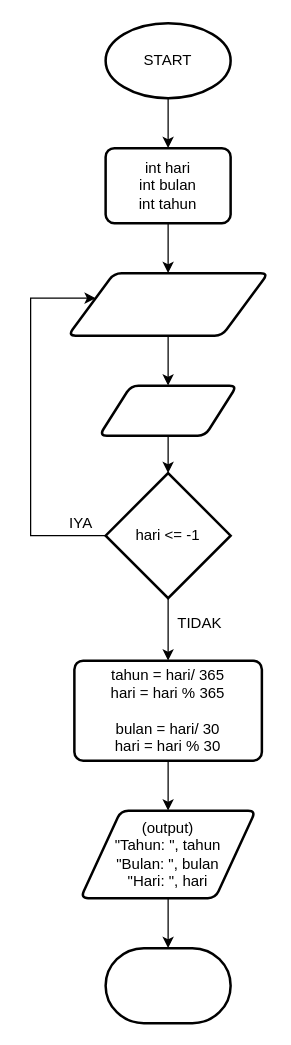
Some shapes in this 291 by 1045 pixel diagram are drawn without their labels. Each missing label, with the box of its shape:
(input) hari: (98, 384, 238, 436)
(output) "Masukkan hari: ": (66, 271, 269, 336)
END: (104, 946, 231, 1024)
